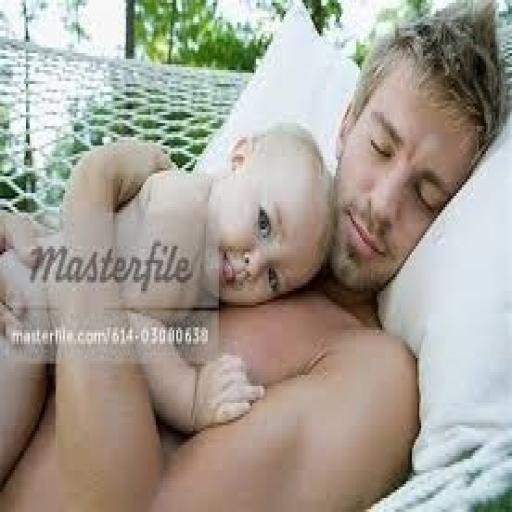hugging: (0, 0, 508, 509)
